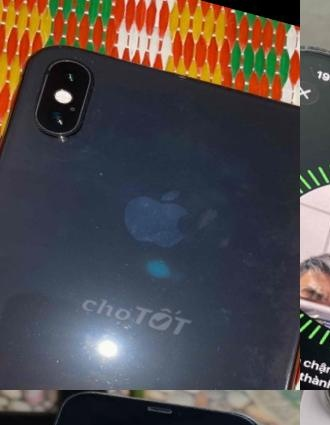scratch: (0, 282, 290, 390), (124, 256, 207, 314), (65, 207, 121, 262), (73, 80, 105, 145), (82, 259, 131, 296), (53, 40, 105, 72), (160, 65, 201, 92), (117, 256, 144, 277), (86, 165, 106, 185)
